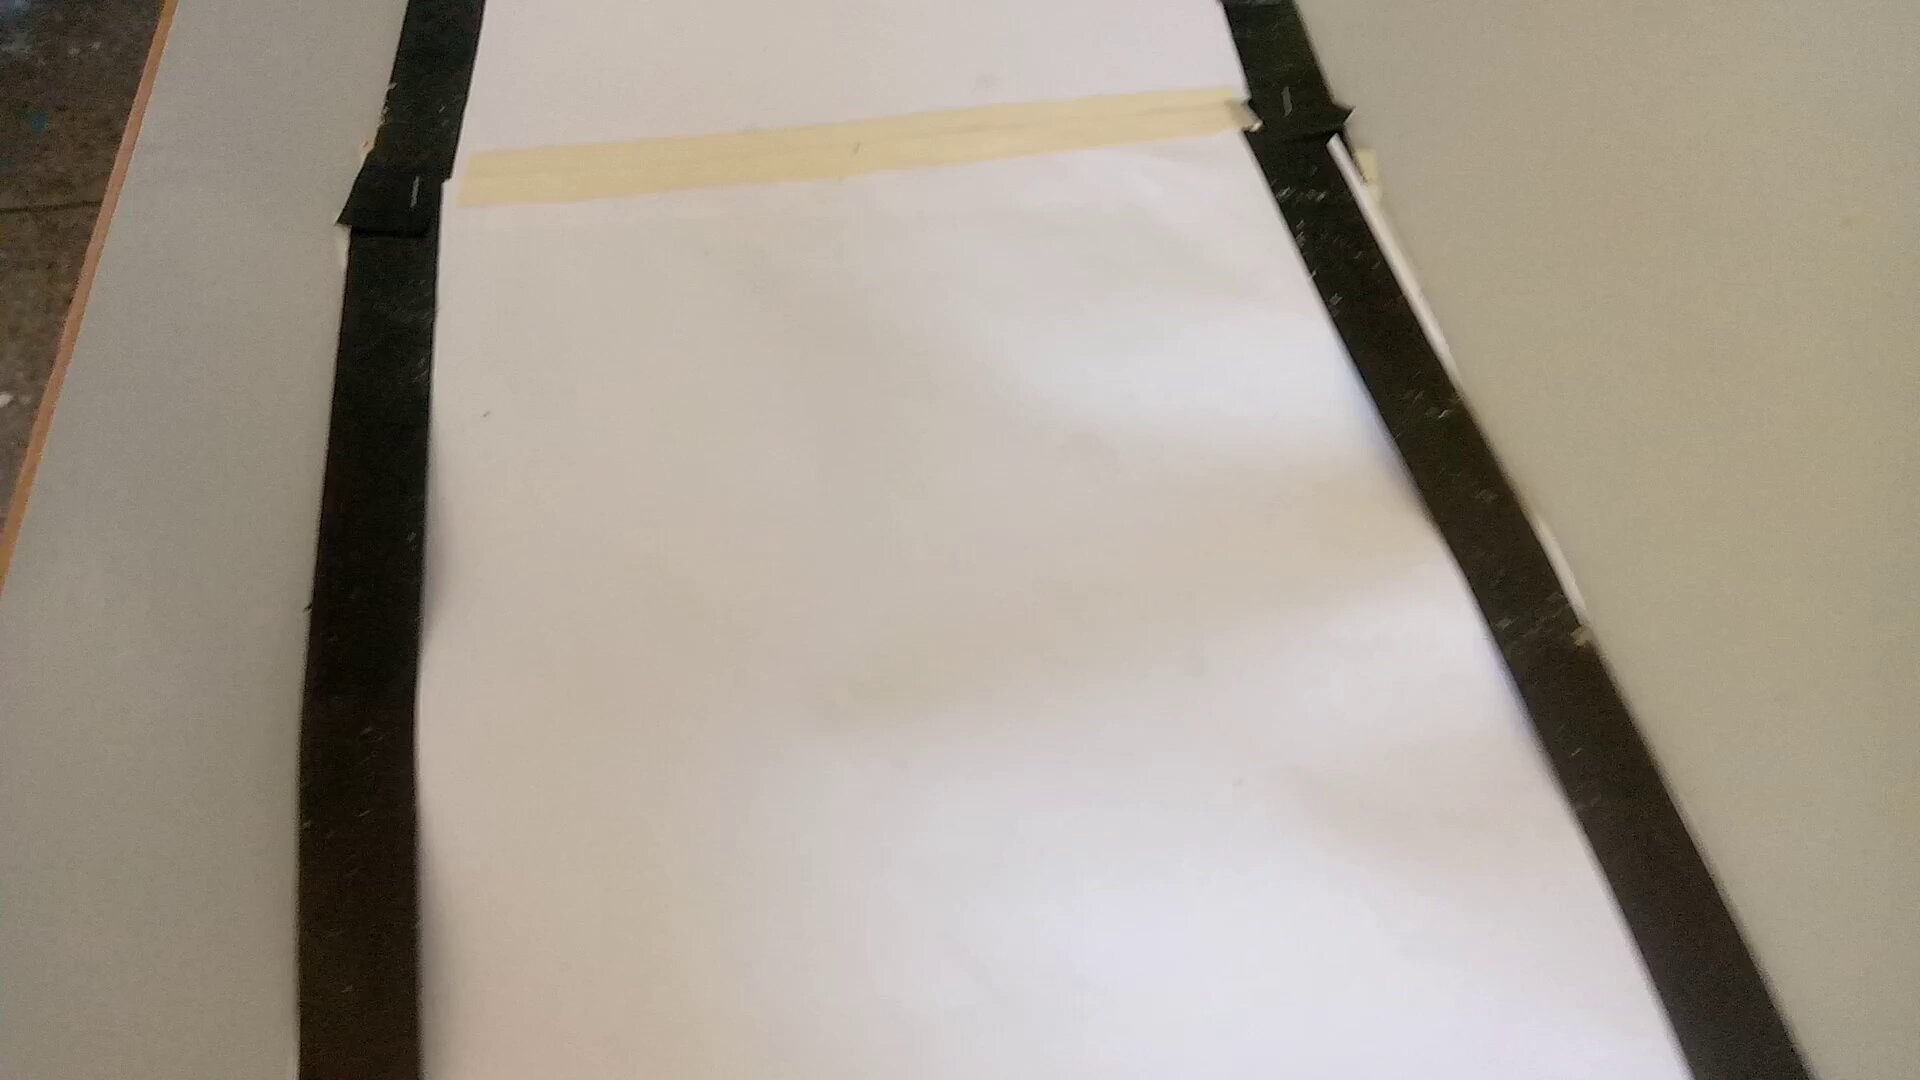forward: (237, 793, 1705, 982)
right: (284, 248, 1540, 556), (299, 5, 1462, 224)
